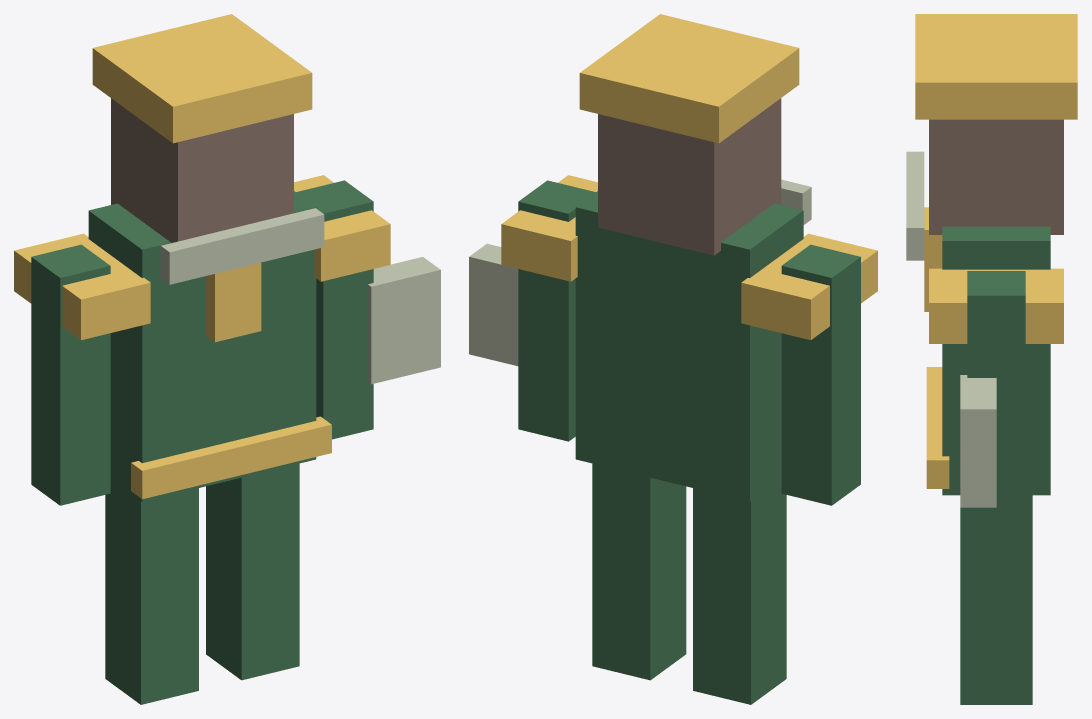
File: 13_astra_brightlock_navigator_from_summit.glb
3 views of the same model, side by side, from view 1: azimuth 30°, elevation 25°; view 2: azimuth 150°, elevation 25°; view 3: azimuth 270°, elevation 25° (orthographic).
Visible parts, largest first — view 1: Astra Brightlock, Navigator from Summit; view 2: Astra Brightlock, Navigator from Summit; view 3: Astra Brightlock, Navigator from Summit.
Boxes of the visible parts, x1,y1,x2,y2 form: Astra Brightlock, Navigator from Summit: [14, 14, 440, 704]; Astra Brightlock, Navigator from Summit: [469, 14, 877, 704]; Astra Brightlock, Navigator from Summit: [906, 14, 1077, 704].
Size of the model in its own units: 1.03 by 1.6 by 0.4011.
